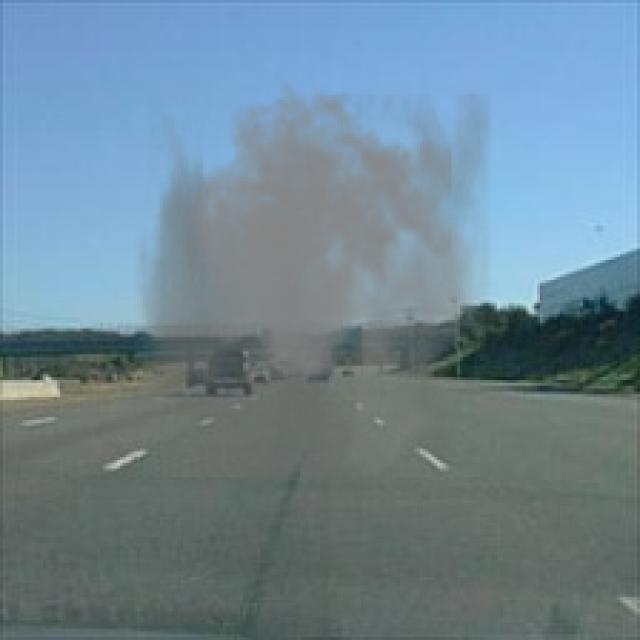Smoke: (134, 80, 492, 483)
